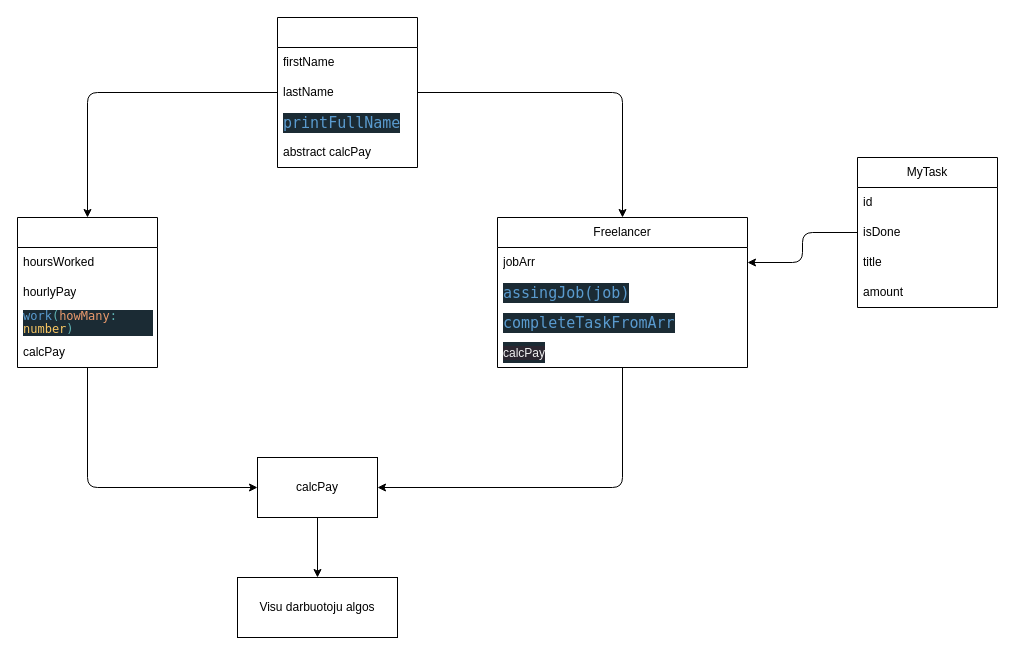
The diagram is 1015 pixels wide and 655 high, and some of its shapes have lost their labels. Here are the shapes that lost their labels. From the top down, the box of each, then its label:
(276, 16, 418, 168): abstract Person
(16, 216, 158, 368): Employee
